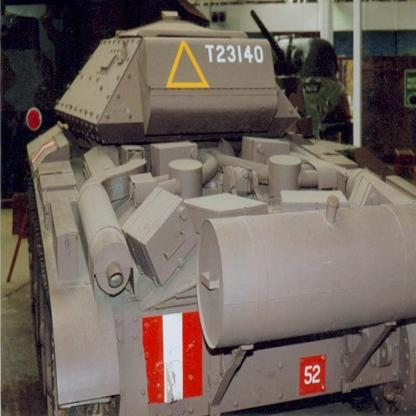Tank: (23, 10, 416, 416)
